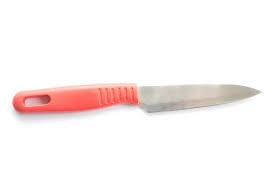Knife: (12, 82, 262, 114)
